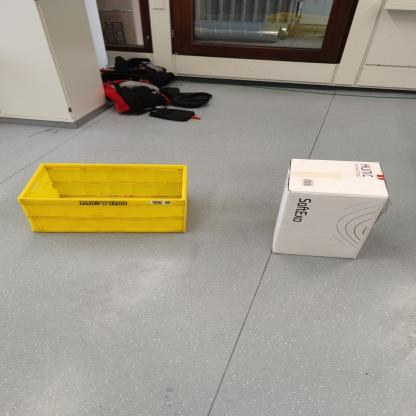-: (9, 148, 200, 250), (252, 147, 406, 273)
